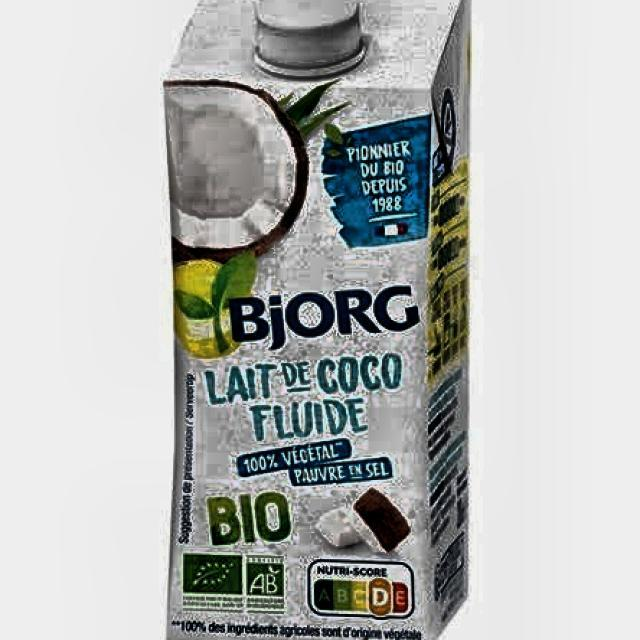cardboard: (162, 0, 472, 640)
